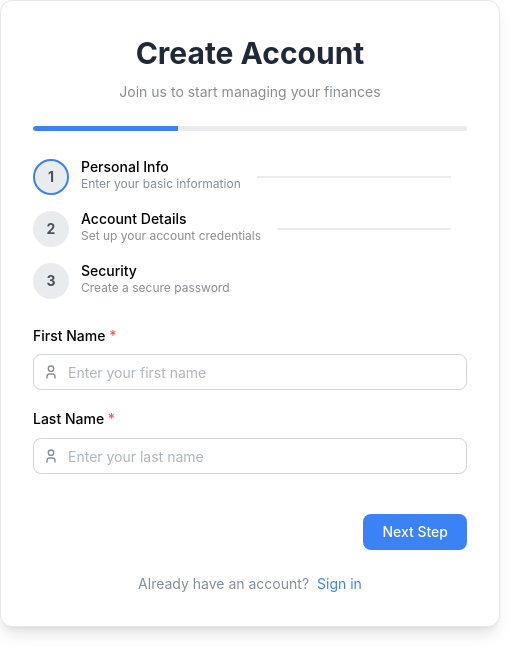
RegistrationForm › should proceed to second step with valid first step data
This screenshot has width=517, height=653.
Step 1. Type "John" into the field labelled "First Name *" → (250, 372), box [33,354,467,390]
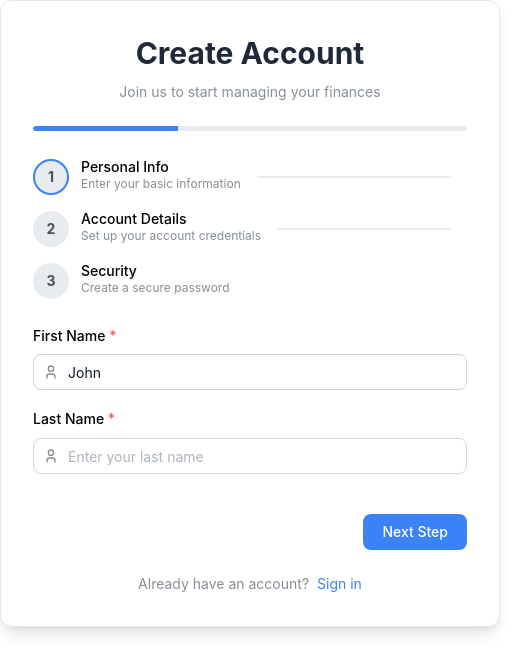
Step 2. Type "Doe" into the field labelled "Last Name *" → (250, 456), box [33,438,467,474]
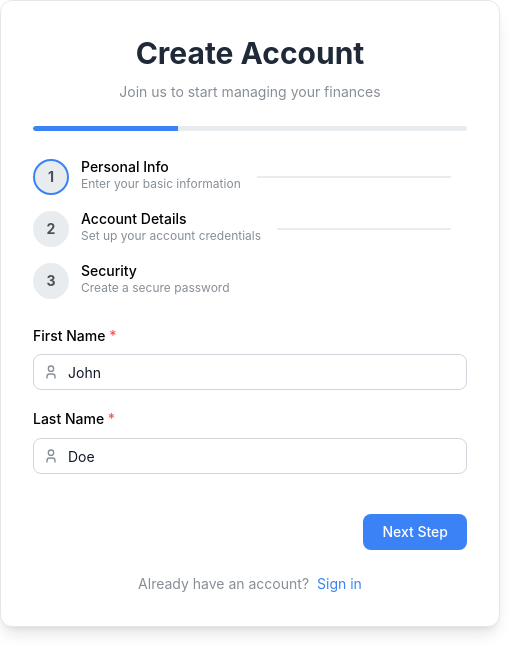
Step 3. Click the button "Next Step" → (415, 532), box [363,514,467,550]
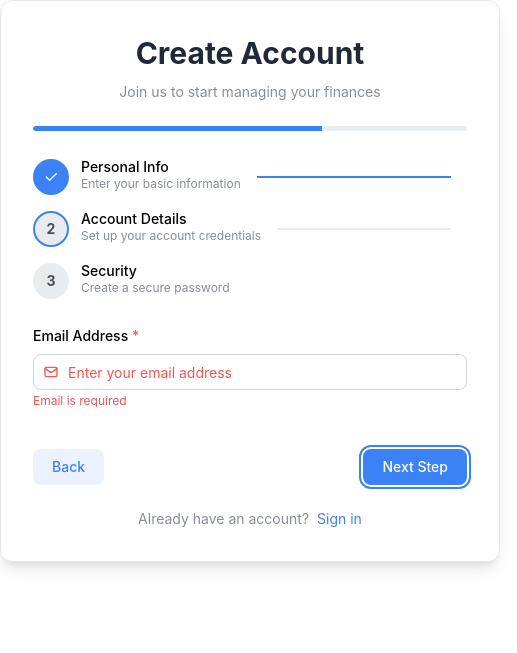
Expected: the field labelled "Email Address *" is shown, [33,354,467,390]
Expected: the button "Back" is shown, [33,449,104,485]
